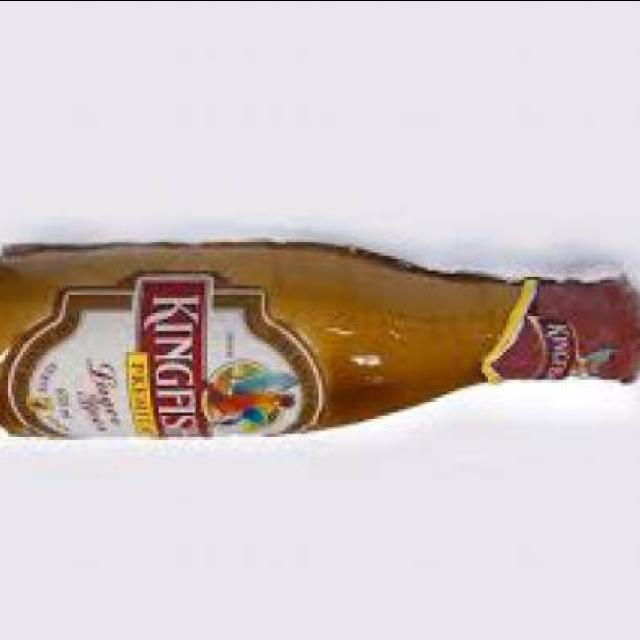kaca: (0, 236, 640, 439)
